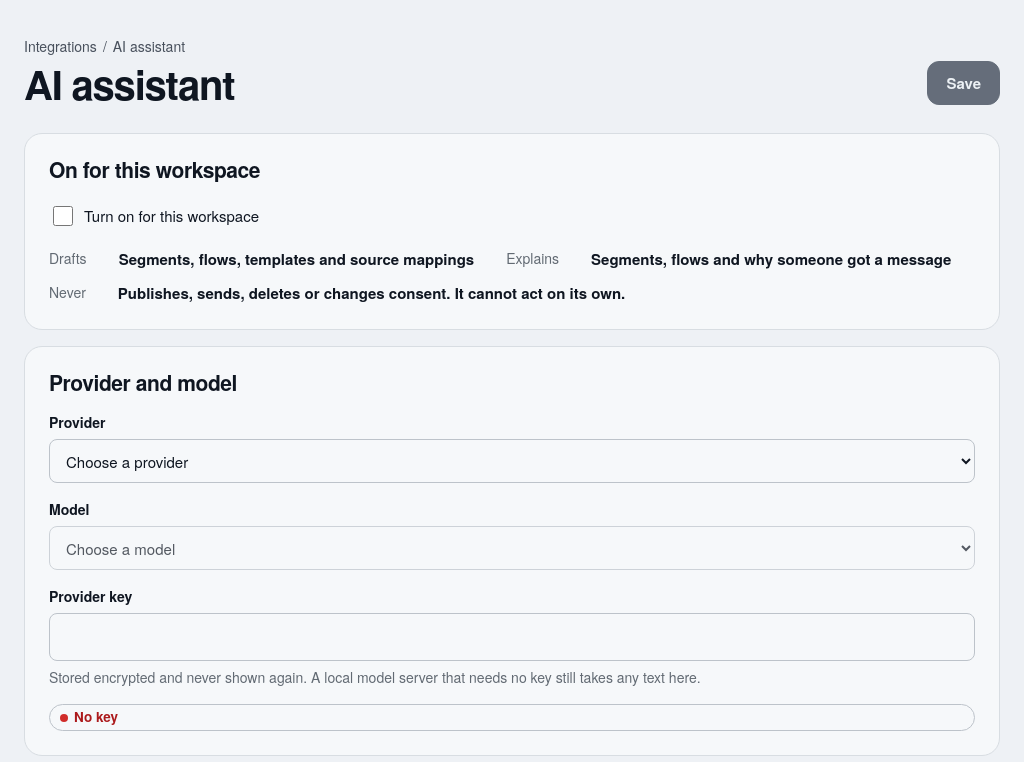
it: AI assistant settings › will not turn the assistant on without a model or a key
Click the switch labelled "Turn on for this workspace".
click(63, 216)  # box [53,206,73,226]
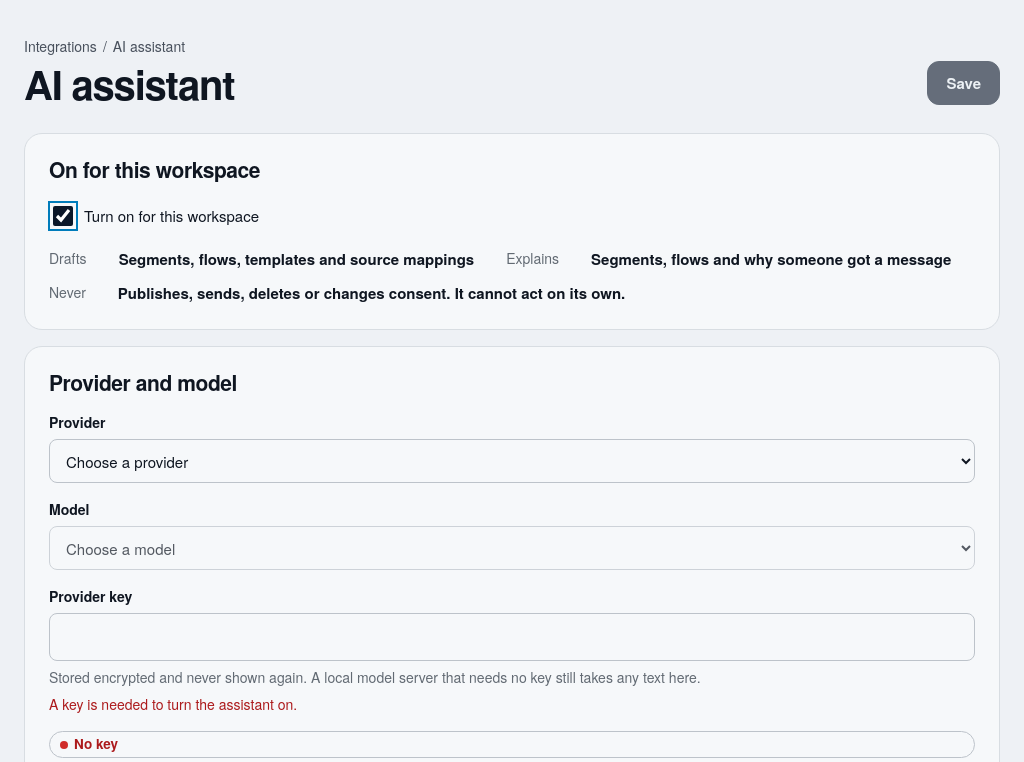
expect the button "Save" is disabled: met, box [928,61,1000,105]
Select "anthropic" in the dropdown labelled "Provider" at (512, 461), box [49,439,975,483]
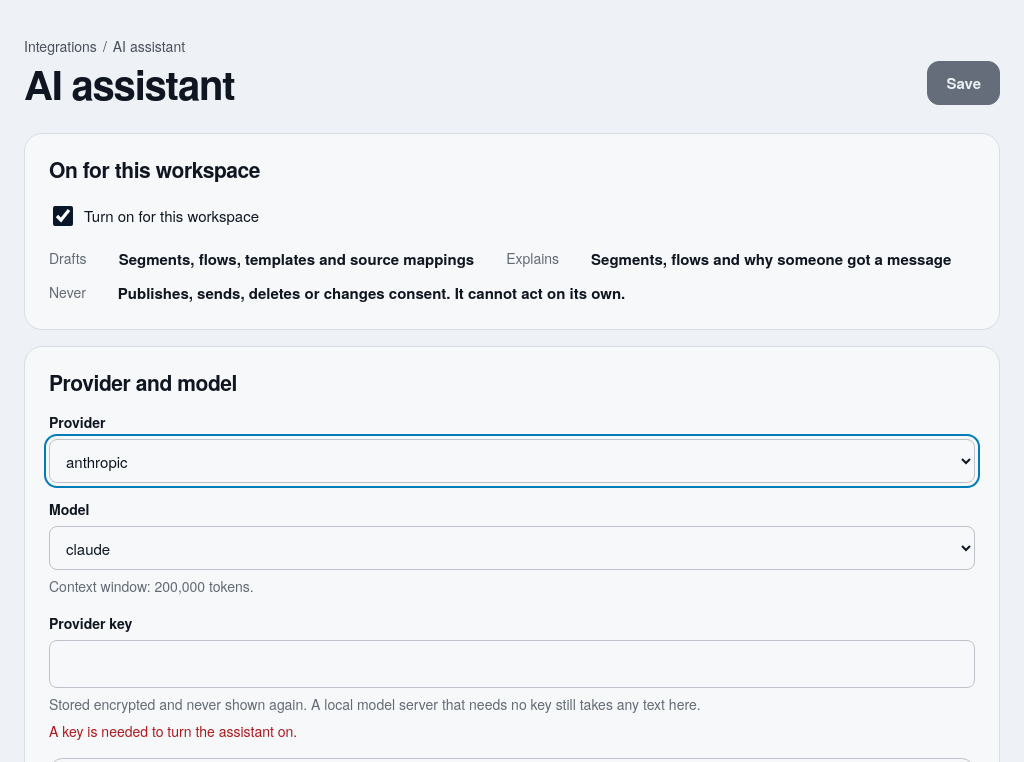
expect the button "Save" is disabled: met, box [928,61,1000,105]
expect the text "A key is needed to turn the assistant on." is shown: met, box [49,721,297,741]
Type "sk-typed" into the password field labelled "Provider key".
click(512, 664); type("sk-typed")  # box [49,640,975,688]
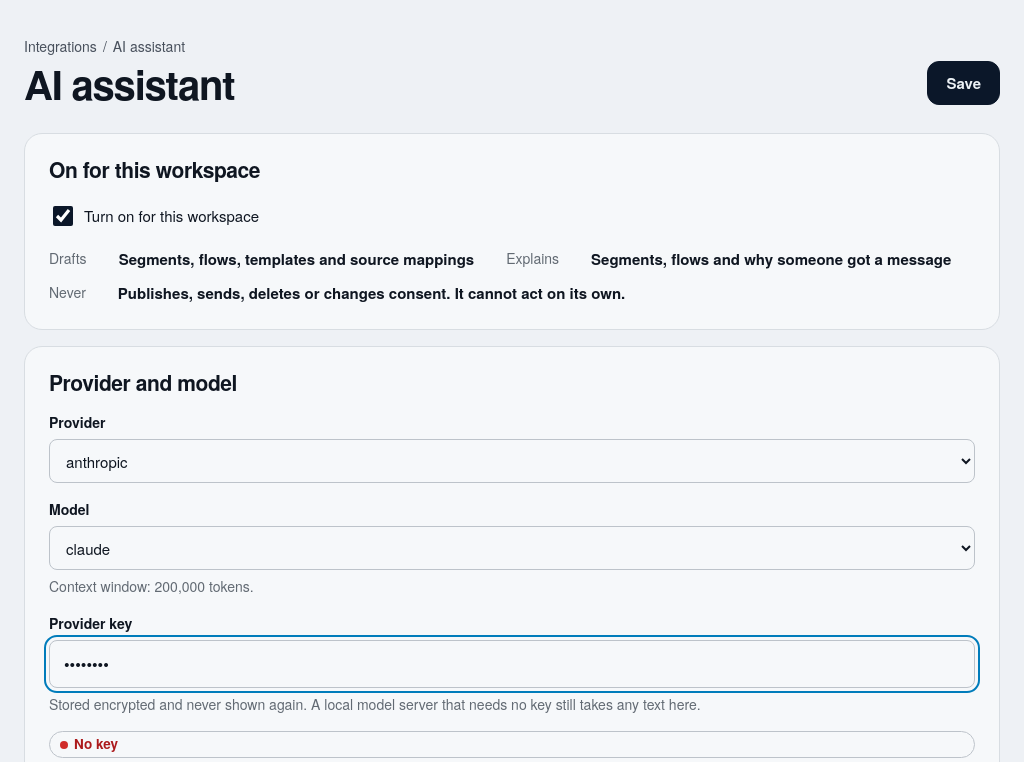
expect the button "Save" is enabled: met, box [928,61,1000,105]
